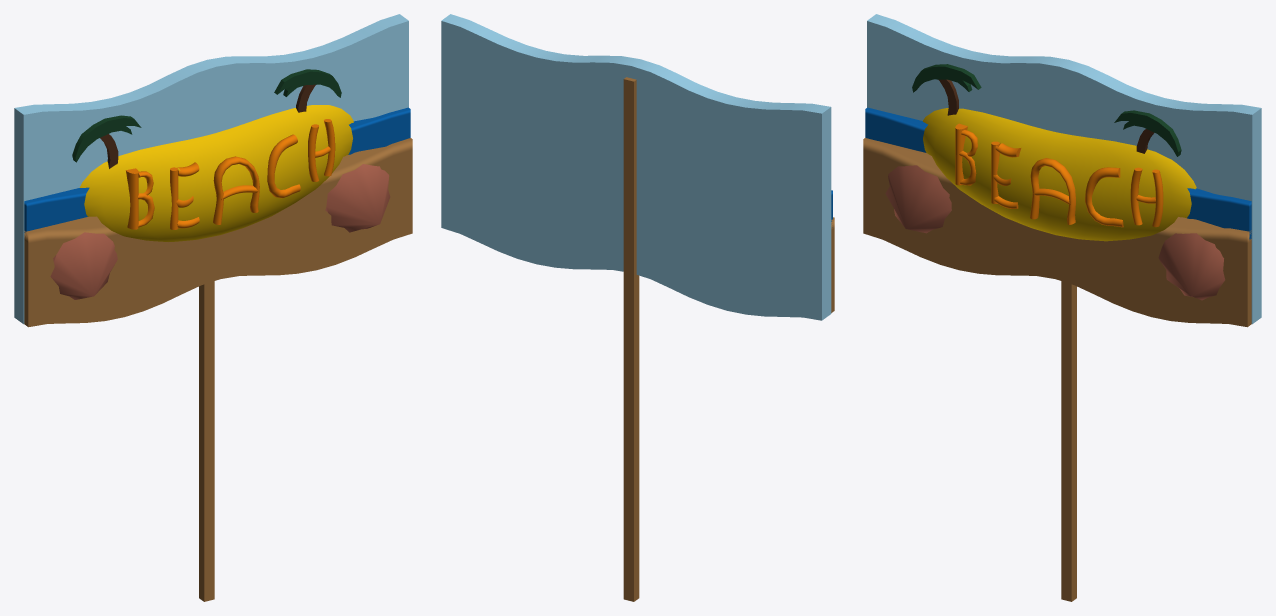
The model's file is beach bord.fbx.
3 renders of one model, left to right at view 1: azimuth 30°, elevation 25°; view 2: azimuth 150°, elevation 25°; view 3: azimuth 330°, elevation 25°, orthographic.
Parts seen in each view (by area): view 1: pCube2, pasted__pCube2, pSphere2, pCube1, pasted__pasted__pCube2, pasted__pCone1, pCone1, pCylinder4, polySurface2, pasted__polySurface2, pCylinder6, pCylinder1; view 2: pCube2, pCube1; view 3: pCube2, pasted__pCube2, pSphere2, pCube1, pasted__pasted__pCube2, pCone1, pasted__pCone1, pCylinder4, pasted__polySurface2, polySurface2, pCylinder6.
Part boxes in pixels (bbox=[...]): pCube2: bbox=[14, 14, 408, 324]; pasted__pCube2: bbox=[24, 138, 412, 327]; pSphere2: bbox=[79, 105, 353, 241]; pCube1: bbox=[199, 281, 214, 601]; pasted__pasted__pCube2: bbox=[24, 107, 410, 232]; pasted__pCone1: bbox=[50, 232, 117, 299]; pCone1: bbox=[325, 164, 390, 232]; pCylinder4: bbox=[213, 156, 259, 224]; polySurface2: bbox=[72, 115, 141, 162]; pasted__polySurface2: bbox=[274, 69, 341, 97]; pCylinder6: bbox=[267, 134, 300, 198]; pCylinder1: bbox=[126, 168, 138, 229]; pCube2: bbox=[441, 14, 831, 320]; pCube1: bbox=[623, 77, 639, 601]; pCube2: bbox=[867, 14, 1261, 324]; pasted__pCube2: bbox=[863, 138, 1251, 327]; pSphere2: bbox=[923, 108, 1196, 241]; pCube1: bbox=[1061, 281, 1076, 601]; pasted__pasted__pCube2: bbox=[865, 107, 1251, 239]; pCone1: bbox=[1158, 233, 1225, 300]; pasted__pCone1: bbox=[885, 165, 951, 233]; pCylinder4: bbox=[1030, 158, 1075, 224]; pasted__polySurface2: bbox=[1114, 110, 1181, 156]; polySurface2: bbox=[912, 64, 981, 92]; pCylinder6: bbox=[1085, 167, 1123, 227].
Bounding box in the file's own units: 12.27 × 16.4 × 1.54.
